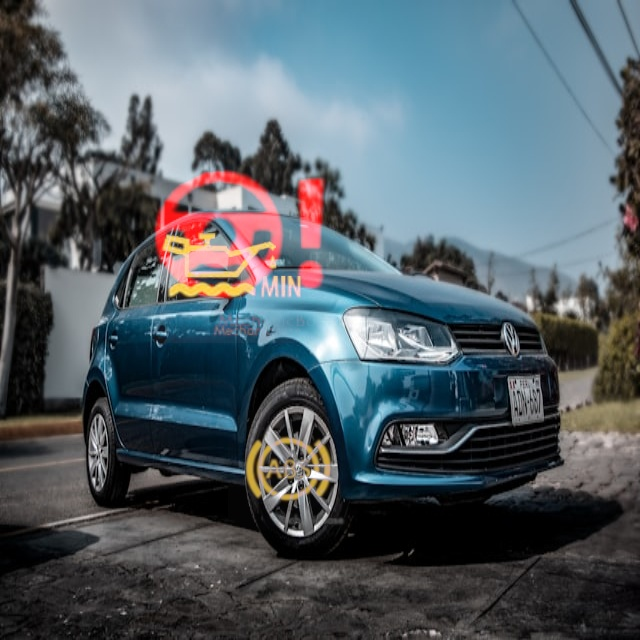symbol: (139, 135, 341, 337), (154, 190, 307, 343), (228, 410, 348, 530)
